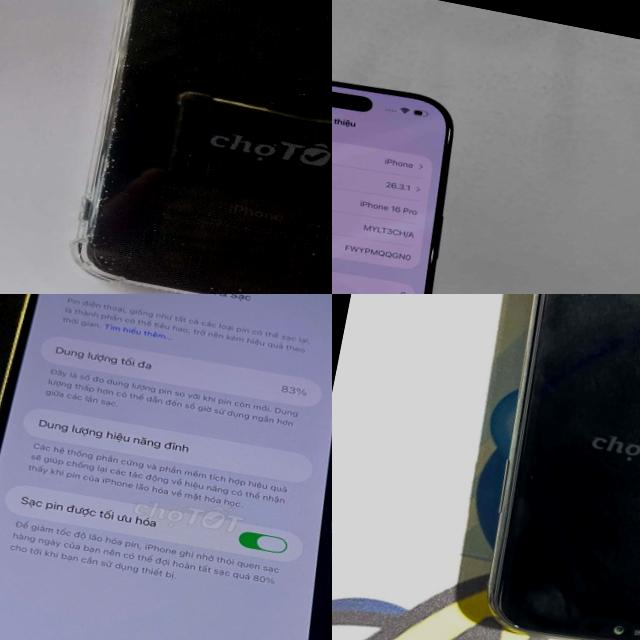gen_11: (489, 294, 640, 640)
gen_14: (0, 294, 332, 640)
gen_16: (332, 82, 452, 294)
gen_7_8: (43, 0, 332, 294)
